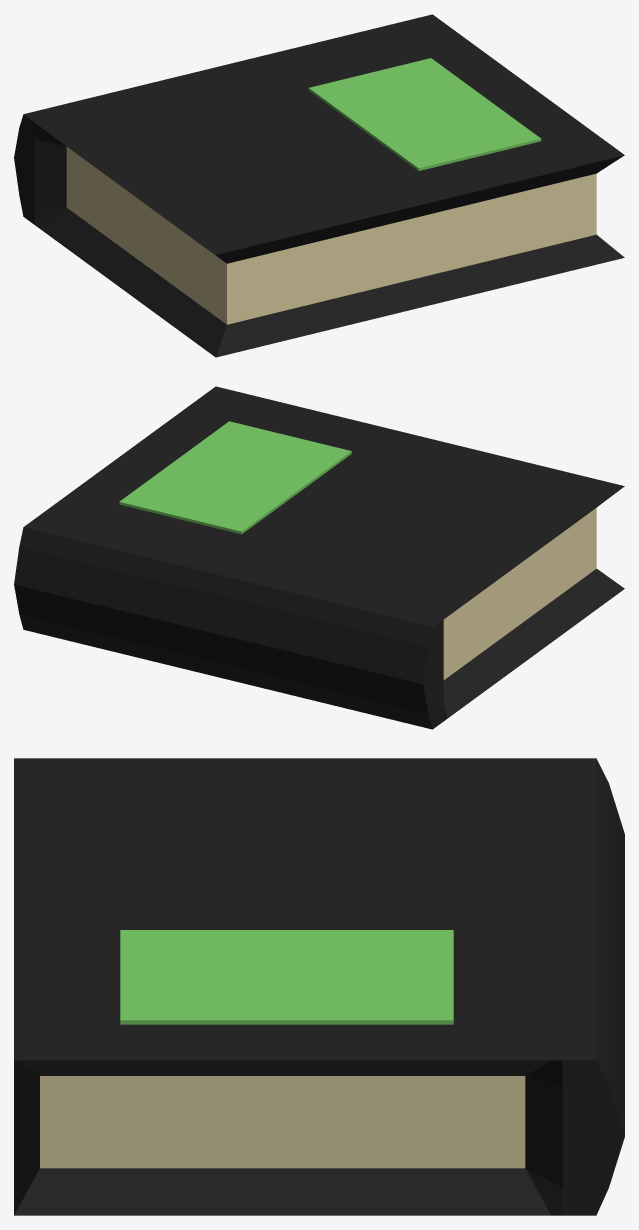
Rendered from green-book.fbx.
3 renders of one model, top to bottom at view 1: azimuth 30°, elevation 25°; view 2: azimuth 150°, elevation 25°; view 3: azimuth 270°, elevation 25°, orthographic. The views are drawn at different scales.
Visible parts, largest first — view 1: Cube; view 2: Cube; view 3: Cube.
Boxes of the visible parts, bbox=[...] form: Cube: bbox=[14, 14, 624, 357]; Cube: bbox=[14, 386, 624, 729]; Cube: bbox=[14, 758, 624, 1215].
Size of the model in its own units: 200 by 49.19 by 171.
